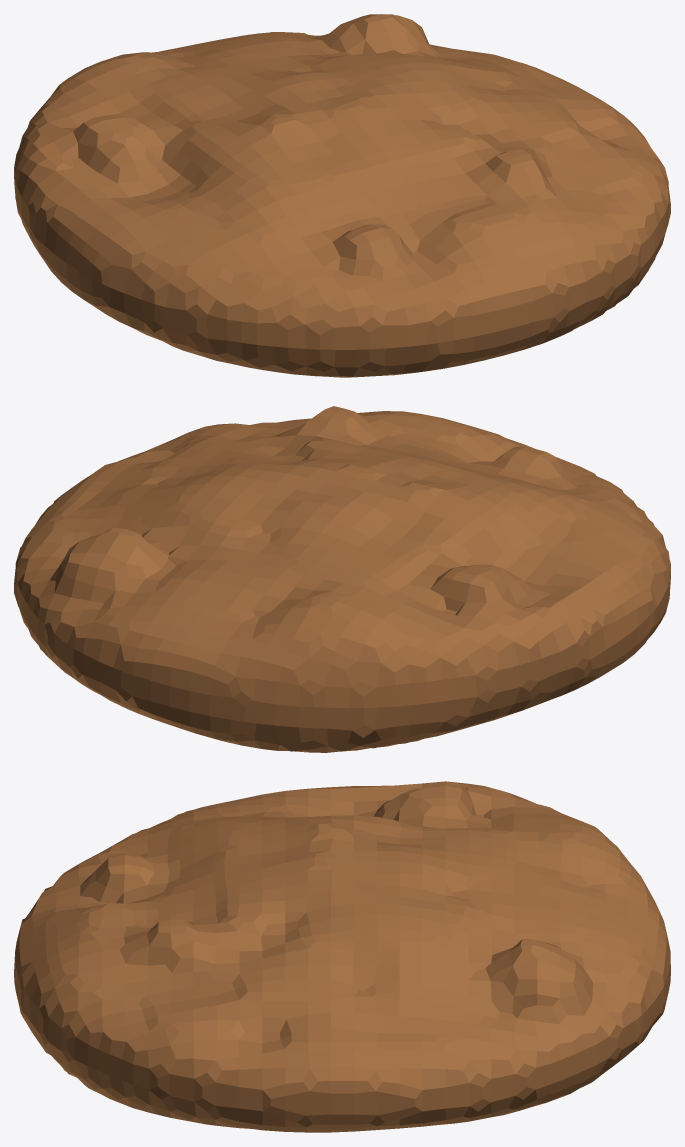
The model's file is sugarCookie.glb.
3 views of the same model, one above another, from view 1: azimuth 30°, elevation 25°; view 2: azimuth 150°, elevation 25°; view 3: azimuth 270°, elevation 25° (orthographic).
Visible parts, largest first — view 1: geometry_0; view 2: geometry_0; view 3: geometry_0.
Boxes of the visible parts, x1,y1,x2,y2 form: geometry_0: (14,14,670,377); geometry_0: (14,406,670,752); geometry_0: (14,781,670,1132).
Bounding box in the file's own units: 0.5841 × 0.1657 × 0.5874.
